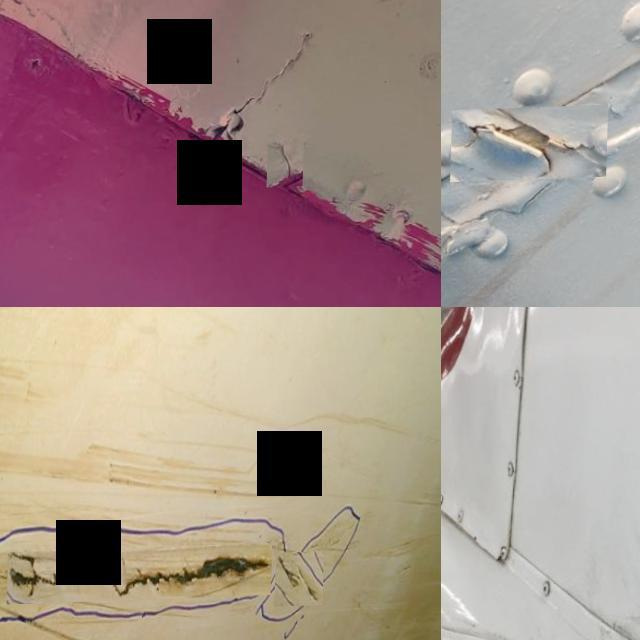Crack: (200, 24, 320, 160), (10, 554, 274, 603), (452, 108, 610, 184), (278, 556, 325, 609), (270, 136, 306, 190)
